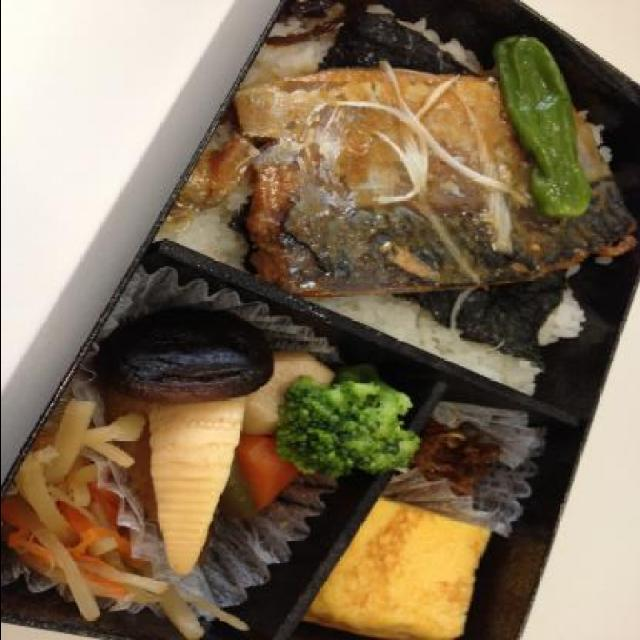Broccoli: (273, 364, 425, 480)
